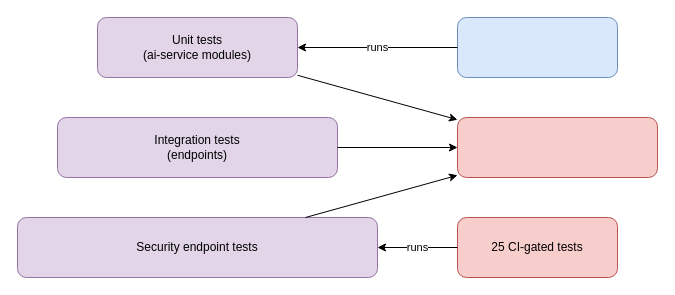
Some shapes in this 675 by 295 pixel diagram are drawn without their labels. The shapes that lost their labels are listed below. From the top down, each one's centre as x and y in pixels, then its label:
[537,47]: 61 local tests
[557,147]: pytest-cov 70% coverage gate
